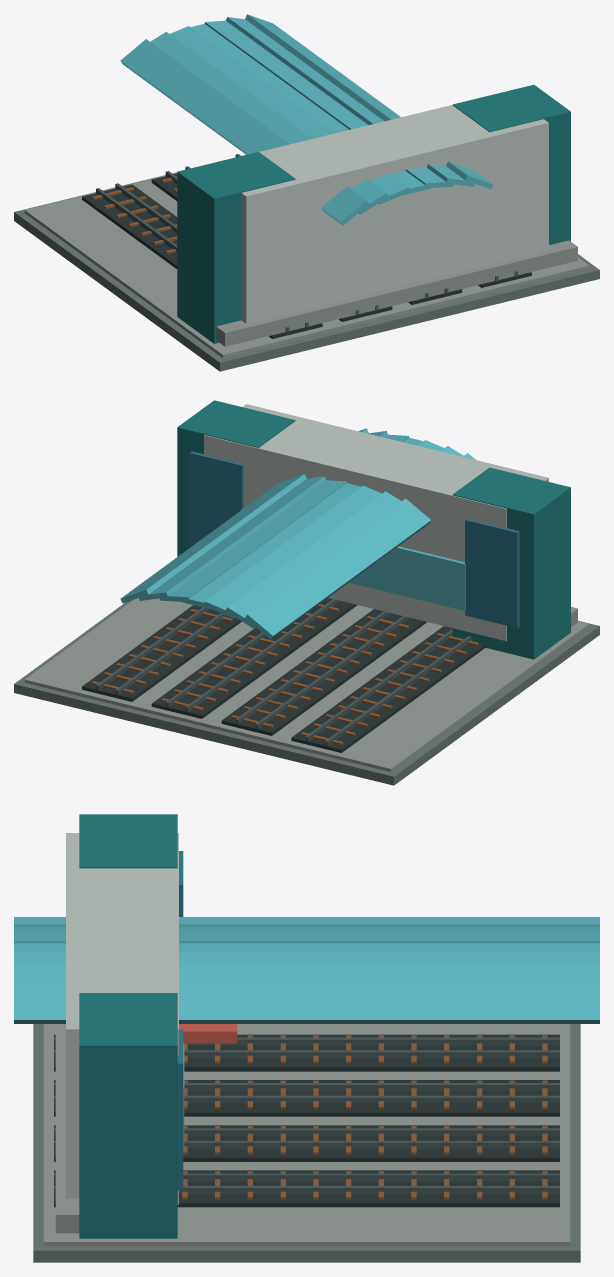
File: train_station_lv3.glb
3 views of the same model, one above another, from view 1: azimuth 30°, elevation 25°; view 2: azimuth 150°, elevation 25°; view 3: azimuth 270°, elevation 25° (orthographic). The views are drawn at different scales.
Parts seen in each view (by area): view 1: rough, glossy, metallic; view 2: rough, glossy, metallic; view 3: rough, glossy, metallic.
Boxes of the visible parts, bbox=[...] form: rough: bbox=[14, 84, 599, 371]; glossy: bbox=[120, 14, 493, 225]; metallic: bbox=[96, 154, 517, 332]; rough: bbox=[14, 400, 599, 785]; glossy: bbox=[120, 428, 519, 639]; metallic: bbox=[96, 599, 471, 746]; rough: bbox=[33, 814, 580, 1262]; glossy: bbox=[14, 851, 599, 1190]; metallic: bbox=[54, 1037, 559, 1193].
Size of the model in its own units: 9.8 by 3.88 by 9.85.
